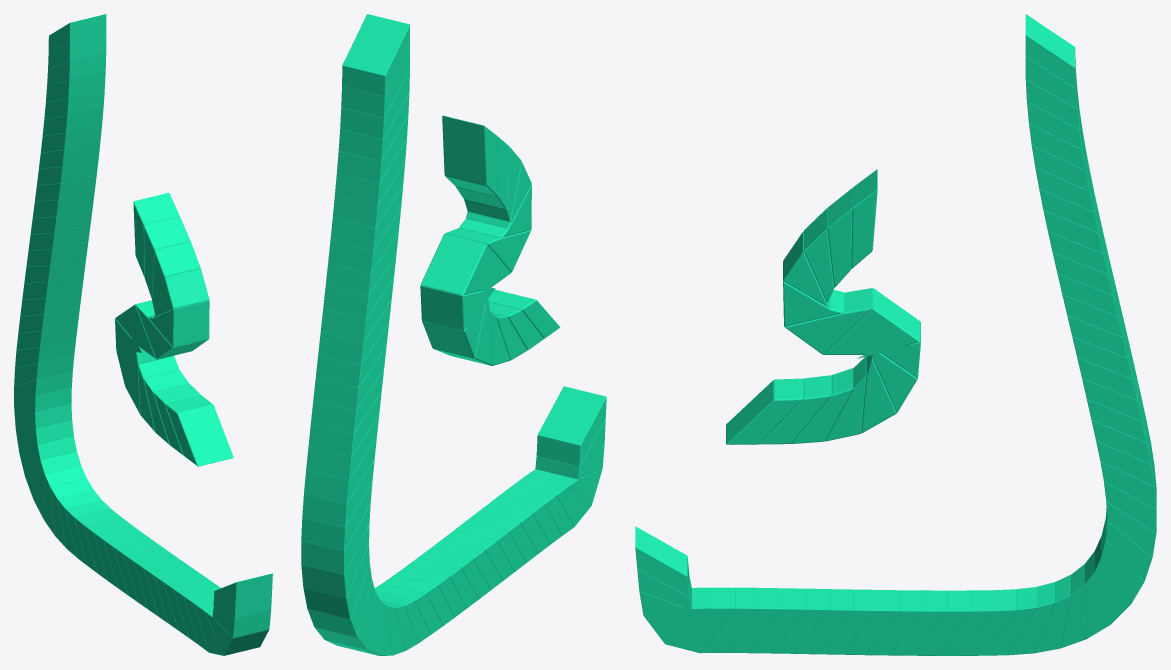
The model's file is kaf.fbx.
The picture shows the model from 3 angles, left to right: view 1: azimuth 30°, elevation 25°; view 2: azimuth 150°, elevation 25°; view 3: azimuth 270°, elevation 25°; orthographic projection. The views are drawn at different scales.
Visible parts, largest first — view 1: Cube, Cube.001; view 2: Cube, Cube.001; view 3: Cube, Cube.001.
Part boxes in pixels (x1,y1,x2,y2): Cube: (14, 14, 272, 655); Cube.001: (115, 192, 233, 466); Cube: (301, 14, 606, 655); Cube.001: (420, 115, 560, 365); Cube: (635, 14, 1156, 655); Cube.001: (726, 169, 920, 444).
Bounding box in the file's own units: 60 × 831 × 632.
